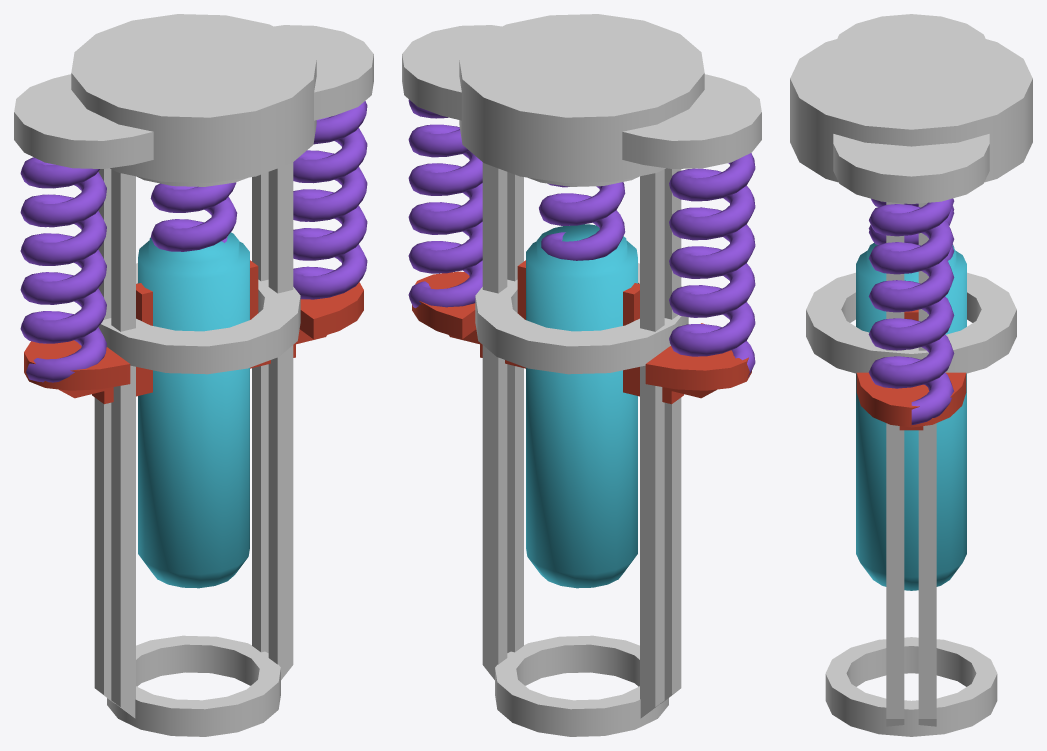
The model's file is LoadedShot.glb.
3 views of the same model, side by side, from view 1: azimuth 30°, elevation 25°; view 2: azimuth 150°, elevation 25°; view 3: azimuth 270°, elevation 25° (orthographic).
Parts seen in each view (by area): view 1: Cube.001, Circle.002, Cylinder, Cube.004, Circle, Cube, Circle.001, Circle.006, Circle.004, Cube.003, Circle.005, Circle.003 (+1 smaller); view 2: Cube.001, Circle.002, Cylinder, Cube.004, Circle, Cube, Circle.001, Circle.006, Circle.004, Cube.003, Circle.005, Cube.002 (+1 smaller); view 3: Circle.002, Cylinder, Cube, Cube.001, Circle, Circle.001, Circle.004, Circle.003, Circle.006, Cube.003.
Boxes of the visible parts, x1,y1,x2,y2 form: Cube.001: (94, 162, 293, 718); Circle.002: (71, 14, 316, 186); Cylinder: (138, 232, 249, 588); Cube.004: (20, 157, 106, 382); Circle: (107, 635, 280, 736); Cube: (293, 101, 367, 299); Circle.001: (98, 263, 300, 374); Circle.006: (14, 74, 153, 168); Circle.004: (274, 25, 373, 120); Cube.003: (150, 182, 237, 251); Circle.005: (24, 340, 130, 390); Circle.003: (299, 282, 363, 339); Cube.001: (482, 162, 681, 718); Circle.002: (459, 14, 704, 186); Cylinder: (526, 224, 637, 588); Cube.004: (669, 153, 755, 377); Circle: (495, 635, 668, 736); Cube: (408, 99, 482, 308); Circle.001: (475, 263, 688, 374); Circle.006: (622, 74, 761, 168); Circle.004: (402, 25, 501, 120); Cube.003: (539, 182, 625, 260); Circle.005: (645, 323, 751, 390); Cube.002: (449, 260, 716, 404); Circle.002: (790, 27, 1032, 182); Cylinder: (856, 243, 966, 590); Cube: (868, 198, 954, 424); Cube.001: (886, 202, 936, 726); Circle: (825, 637, 997, 736); Circle.001: (806, 272, 1016, 373); Circle.004: (833, 134, 989, 203); Circle.003: (856, 372, 966, 427); Circle.006: (837, 14, 985, 38); Cube.003: (869, 198, 954, 260).
Size of the model in its own units: 0.5496 by 0.9808 by 0.3467.
